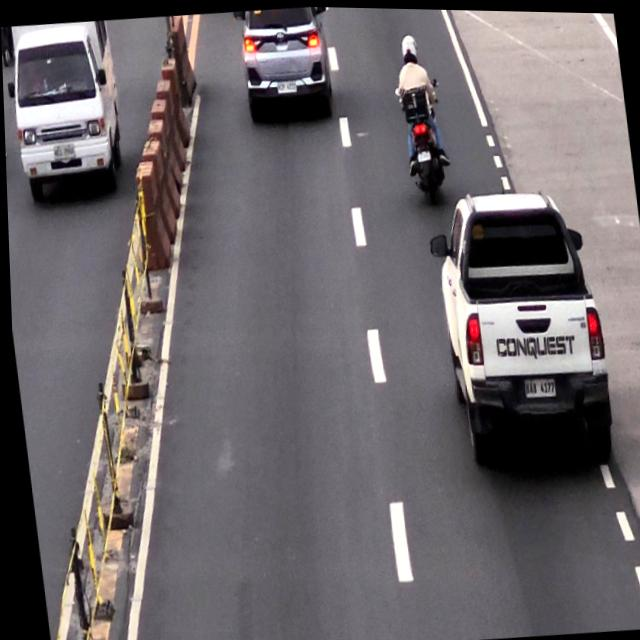Car: (429, 185, 612, 475), (234, 4, 336, 127)
License-Plate: (520, 371, 555, 397), (273, 77, 299, 95)
Motorcycle: (392, 29, 447, 193)
